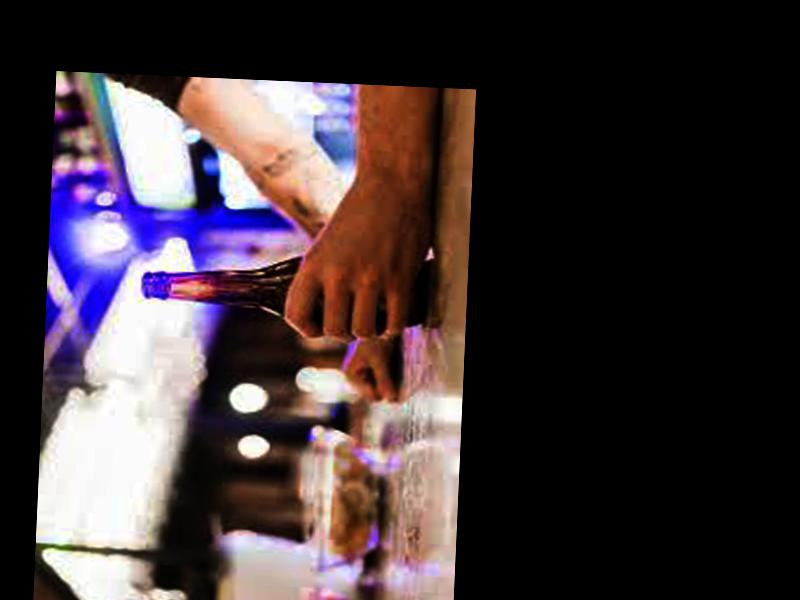Beer: (140, 250, 427, 326)
